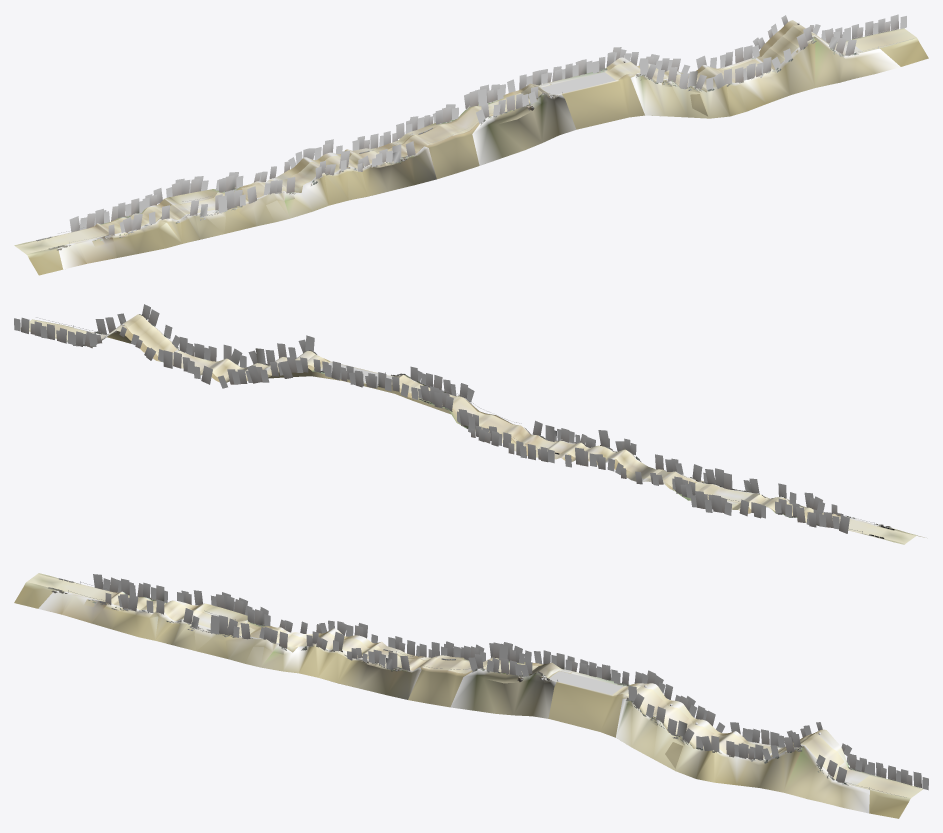
The model's file is Beach_05.fbx.
The picture shows the model from 3 angles, top to bottom: view 1: azimuth 30°, elevation 25°; view 2: azimuth 150°, elevation 25°; view 3: azimuth 330°, elevation 25°; orthographic projection.
Parts seen in each view (by area): view 1: Mountain_01, Tree_01, Road_01, Ground_01, Sea_01; view 2: Tree_01, Ground_01, Road_01; view 3: Mountain_01, Tree_01, Road_01, Ground_01, Sea_01.
Boxes of the visible parts, x1,y1,x2,y2 form: Mountain_01: [58, 35, 900, 269]; Tree_01: [57, 14, 906, 250]; Road_01: [14, 20, 928, 275]; Ground_01: [15, 25, 915, 254]; Sea_01: [541, 72, 615, 94]; Tree_01: [14, 304, 891, 533]; Ground_01: [29, 314, 915, 543]; Road_01: [20, 319, 924, 544]; Mountain_01: [38, 590, 869, 813]; Tree_01: [51, 574, 928, 790]; Road_01: [14, 573, 923, 818]; Ground_01: [27, 574, 921, 797]; Sea_01: [549, 671, 622, 694].
Bounding box in the file's own units: 55417 × 3973 × 4205.
